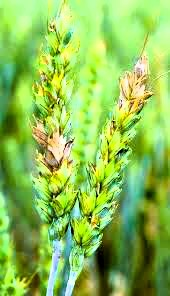Wheat scab: (77, 50, 160, 243)
